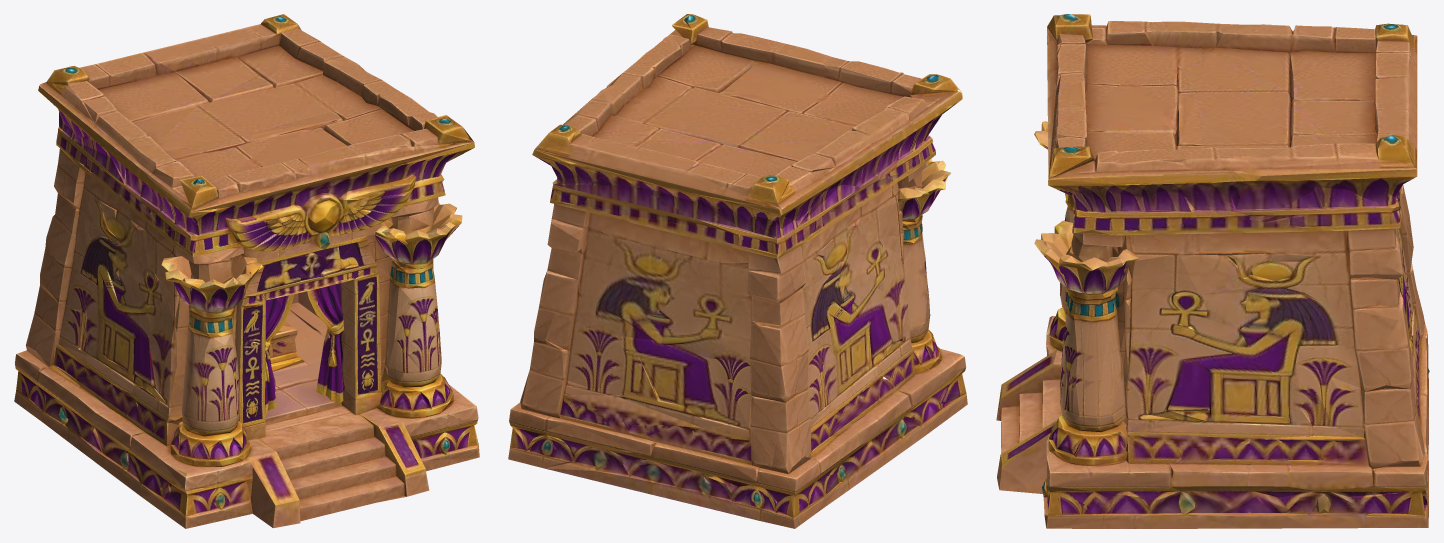
The model's file is temple.glb.
3 views of the same model, side by side, from view 1: azimuth 30°, elevation 25°; view 2: azimuth 150°, elevation 25°; view 3: azimuth 270°, elevation 25° (orthographic). The views are drawn at different scales.
Size of the model in its own units: 1.65 by 1.79 by 1.9.
1 material, 1 textured.
